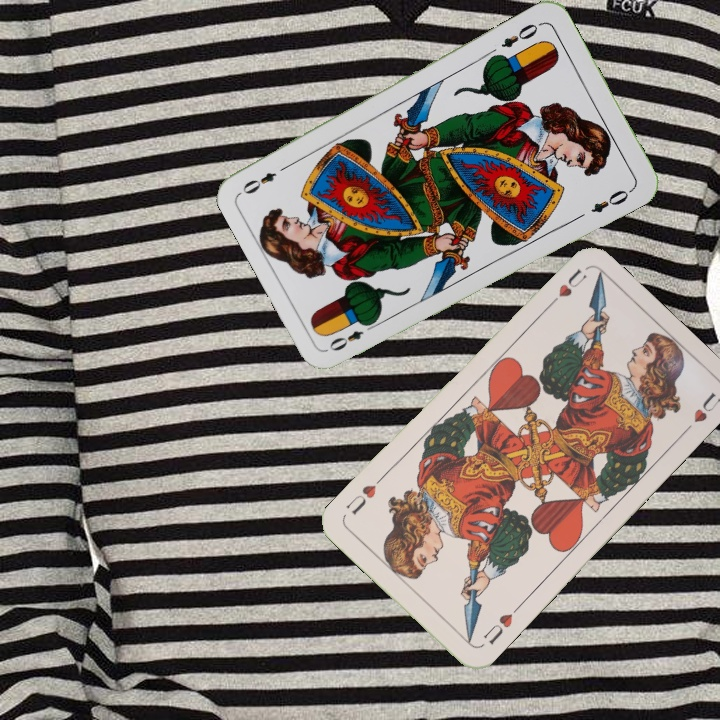EO: (325, 318, 380, 354), (497, 18, 545, 51)
HU: (542, 264, 590, 311), (478, 609, 516, 648)
